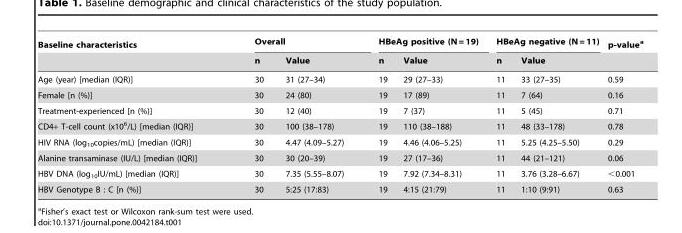table: (36, 36, 642, 193)
table column: (36, 36, 225, 193), (394, 36, 486, 193), (512, 36, 602, 193), (273, 36, 360, 193), (225, 36, 273, 193), (602, 36, 642, 193), (360, 36, 394, 193), (486, 36, 512, 193)
table column header: (36, 36, 642, 69)
table row: (36, 69, 642, 87), (36, 52, 642, 69), (36, 117, 642, 134), (36, 36, 642, 52), (36, 134, 642, 150), (36, 165, 642, 181), (36, 87, 642, 102), (36, 102, 642, 117), (36, 150, 642, 165), (36, 181, 642, 193)
table spanning cell: (36, 36, 225, 69), (225, 36, 360, 52), (360, 36, 486, 52), (486, 36, 602, 52), (602, 36, 642, 69)
